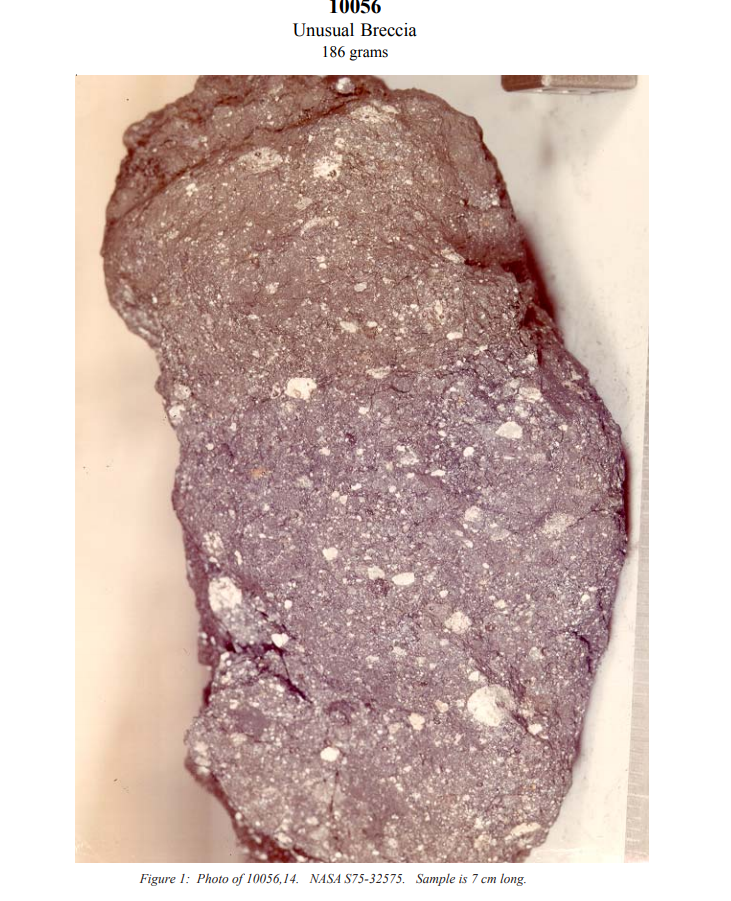Breccia: (74, 68, 649, 860)
